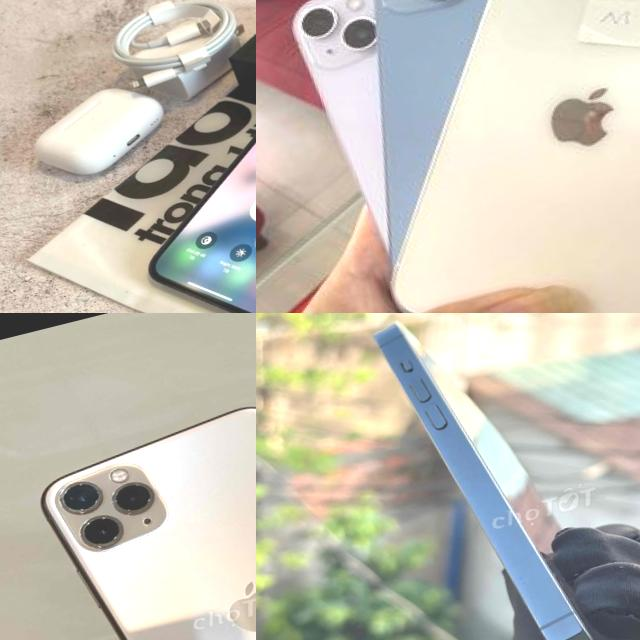gen_11: (21, 372, 256, 640)
gen_12_13: (98, 15, 256, 313)
gen_14: (297, 0, 640, 313), (358, 313, 640, 640)
